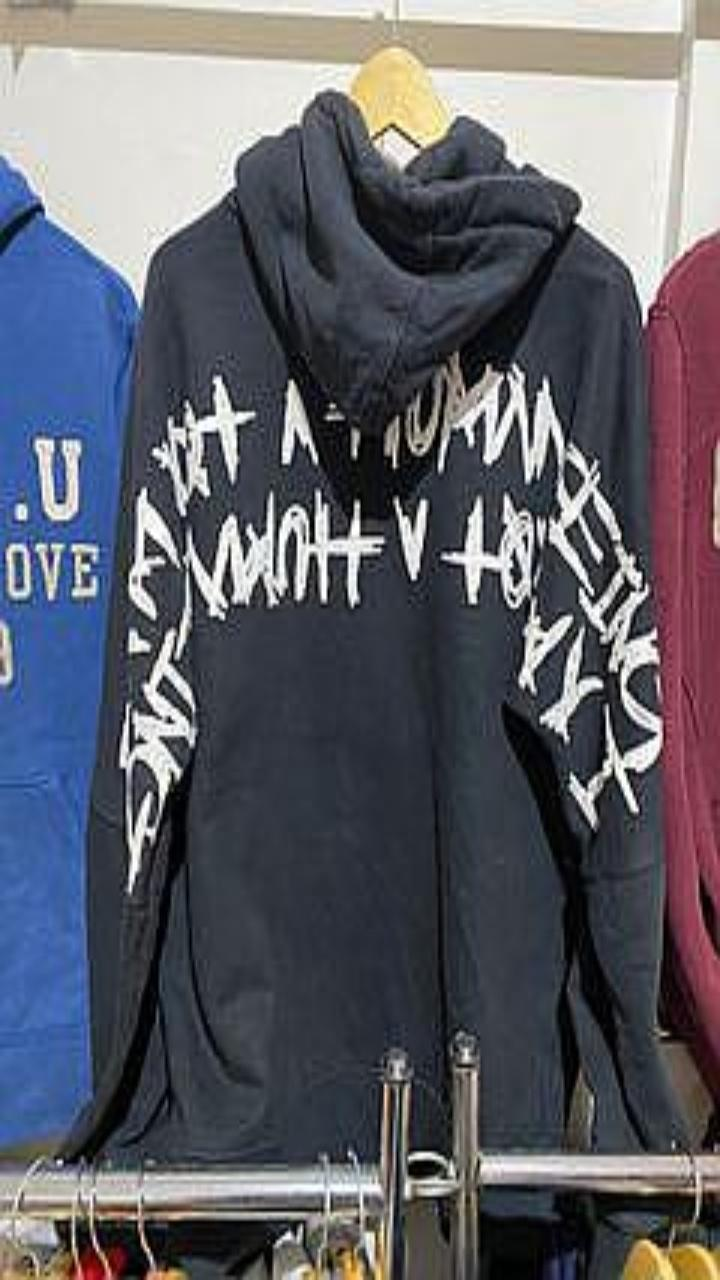Hoodie: (66, 92, 681, 1160), (0, 159, 135, 1144), (649, 236, 719, 1114)
